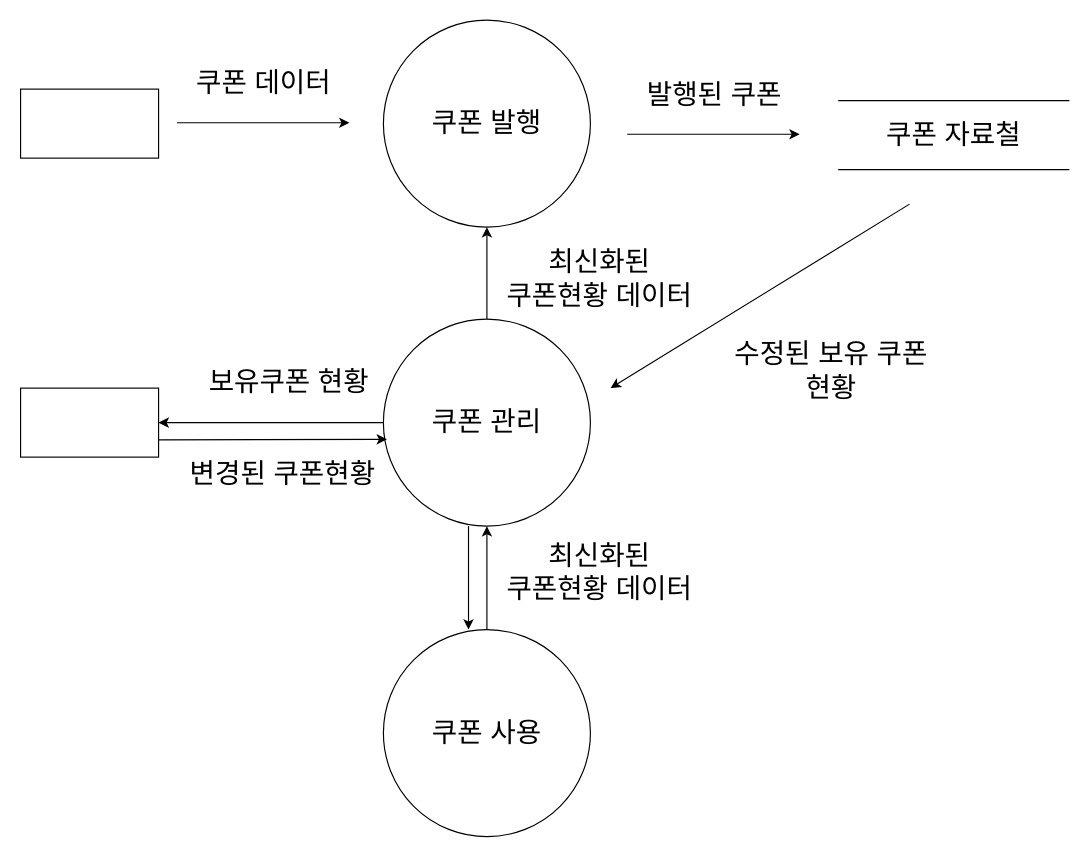
This 1089x857 diagram has some shape labels left out. The centre of each missing label's shape, as x and y in pixels:
"가게" belongs at (x=89, y=123).
"고객" belongs at (x=89, y=422).
